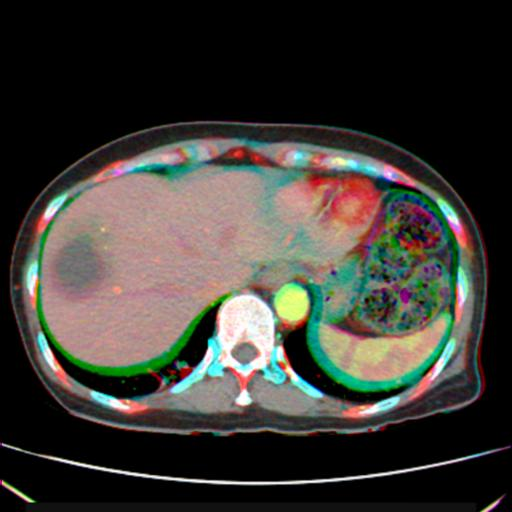Abscess: (54, 236, 102, 293)
